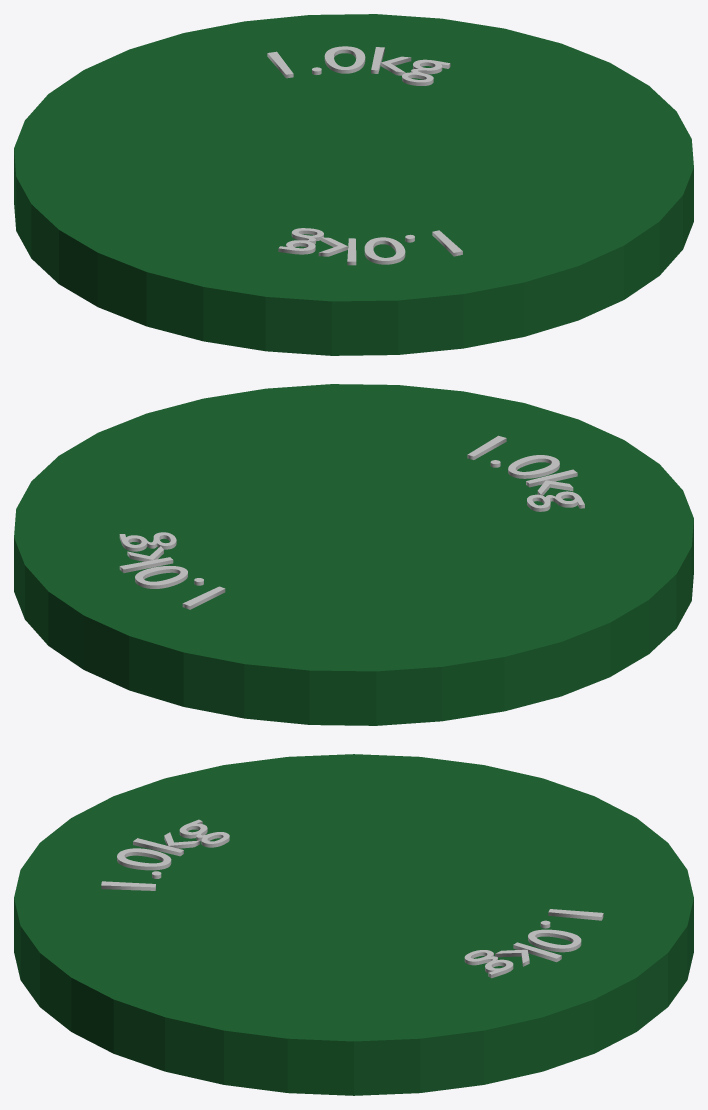
File: 1.0kg_plate.obj
The picture shows the model from 3 angles, top to bottom: view 1: azimuth 30°, elevation 25°; view 2: azimuth 150°, elevation 25°; view 3: azimuth 270°, elevation 25°; orthographic projection.
Parts seen in each view (by area): view 1: Cylinder, Text.001_Text.004, Text_Text.003; view 2: Cylinder, Text_Text.003, Text.001_Text.004; view 3: Cylinder, Text.001_Text.004, Text_Text.003.
Part boxes in pixels (bbox=[...]): Cylinder: bbox=[14, 14, 693, 355]; Text.001_Text.004: bbox=[278, 228, 462, 265]; Text_Text.003: bbox=[267, 46, 450, 85]; Cylinder: bbox=[14, 384, 693, 725]; Text_Text.003: bbox=[119, 532, 225, 609]; Text.001_Text.004: bbox=[467, 435, 584, 511]; Cylinder: bbox=[14, 754, 693, 1095]; Text.001_Text.004: bbox=[101, 819, 229, 890]; Text_Text.003: bbox=[464, 909, 603, 978].
Bounding box in the file's own units: 0.17 × 0.016 × 0.17.
